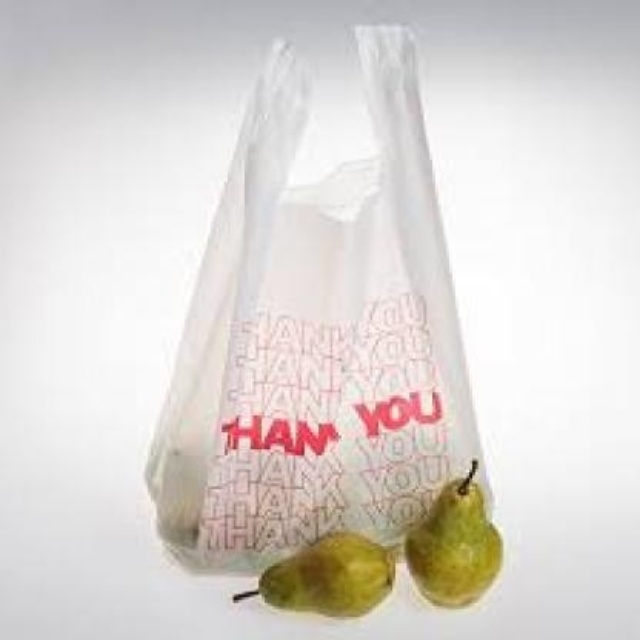trash: (146, 26, 500, 614)
